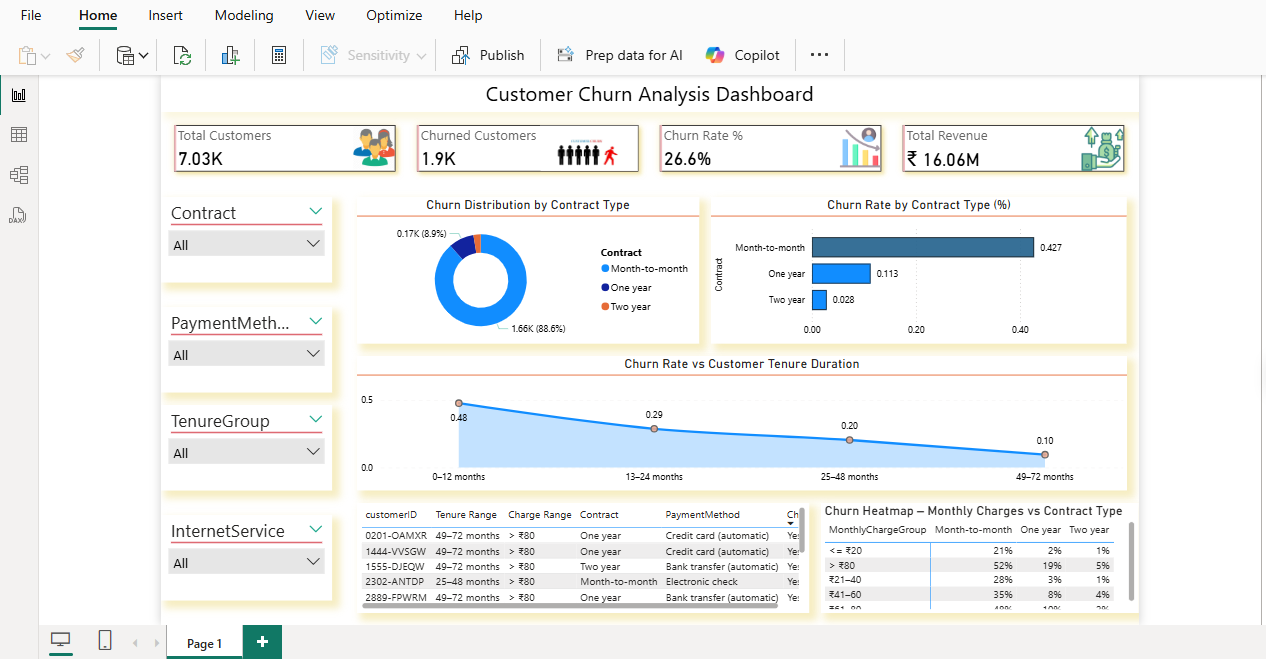

This screenshot's page, from the dashboard's own definition file:
{"tool":"powerbi","page":{"name":"Page 1","canvas":[1280,720],"ordinal":0},"visuals":[{"type":"textbox","box":[0,0,1280,48],"z":0},{"type":"slicer","fields":{"Values":["Telco.Contract"]},"box":[0,160,224,112],"z":1000},{"type":"slicer","fields":{"Values":["Telco.PaymentMethod"]},"box":[0,304,224,112],"z":2000},{"type":"slicer","fields":{"Values":["Telco.InternetService"]},"box":[0,576,224,112],"z":3000},{"type":"slicer","fields":{"Values":["Telco.TenureGroup"]},"box":[0,432,224,112],"z":4000},{"type":"donutChart","title":"Churn Distribution by Contract Type","fields":{"Category":["Telco.Contract"],"Y":["Telco.Churned Customers"]},"box":[256,160,448,192],"z":6000},{"type":"barChart","title":"Churn Rate by Contract Type (%)","fields":{"Y":["Telco.Churn Rate %"],"Category":["Telco.Contract"]},"box":[720,160,544,192],"z":7000},{"type":"lineChart","title":"Churn Rate vs Customer Tenure Duration","fields":{"Y":["Telco.Churn Rate %"],"Category":["Telco.TenureGroup"]},"box":[256,368,1008,176],"z":8000},{"type":"tableEx","title":"Top 10 High-Value Churned Customers","fields":{"Values":["Telco.customerID","Telco.TenureGroup","Telco.MonthlyChargeGroup","Telco.Contract","Telco.PaymentMethod","Telco.Churn"]},"box":[256,560,592,144],"z":9000},{"type":"pivotTable","title":"Churn Heatmap – Monthly Charges vs Contract Type","fields":{"Columns":["Telco.Contract"],"Values":["Telco.Churn Rate %"],"Rows":["Telco.MonthlyChargeGroup"]},"box":[864,560,416,144],"z":10000},{"type":"cardVisual","fields":{"Data":["Telco.Total Customers","Telco.Churned Customers","Telco.Churn Rate %","Telco.Total Revenue"]},"box":[0,48,1280,96],"z":11000}]}

Visuals, with their boxes on the page's 1280x720 design canvas (x1, y1, x2, y2). These are canvas units, not pixel positions in the 1266x659 screenshot, which may show the page scaled, cropped or inside an application window:
textbox: 0,0,1280,48
slicer - Telco.Contract: 0,160,224,272
slicer - Telco.PaymentMethod: 0,304,224,416
slicer - Telco.InternetService: 0,576,224,688
slicer - Telco.TenureGroup: 0,432,224,544
"Churn Distribution by Contract Type" donutChart: 256,160,704,352
"Churn Rate by Contract Type (%)" barChart: 720,160,1264,352
"Churn Rate vs Customer Tenure Duration" lineChart: 256,368,1264,544
"Top 10 High-Value Churned Customers" tableEx: 256,560,848,704
"Churn Heatmap – Monthly Charges vs Contract Type" pivotTable: 864,560,1280,704
cardVisual - Telco.Total Customers x Telco.Churned Customers: 0,48,1280,144
